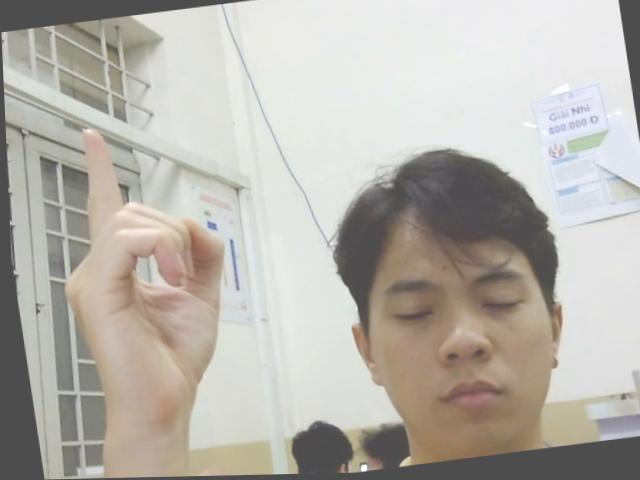D: (37, 111, 246, 442)
